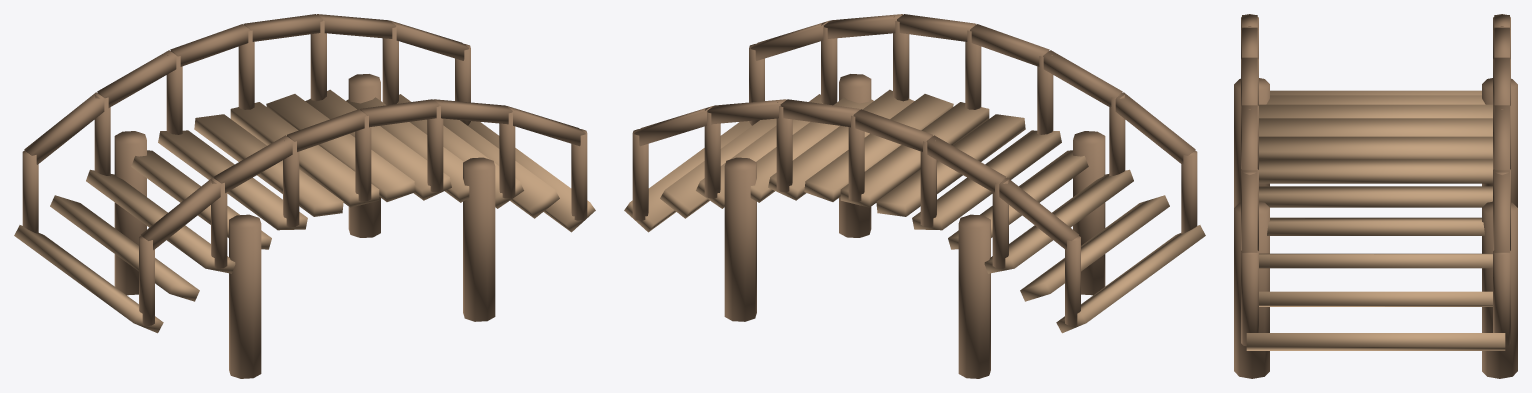
File: bridge_wooden.fbx
3 renders of one model, left to right at view 1: azimuth 30°, elevation 25°; view 2: azimuth 150°, elevation 25°; view 3: azimuth 270°, elevation 25°, orthographic. The views are drawn at different scales.
Visible parts, largest first — view 1: Plank_0; view 2: Plank_0; view 3: Plank_0.
Part boxes in pixels (bbox=[...]): Plank_0: bbox=[14, 14, 595, 378]; Plank_0: bbox=[624, 14, 1205, 378]; Plank_0: bbox=[1234, 14, 1517, 378].
Bounding box in the file's own units: 2.57 × 1.23 × 1.26.
